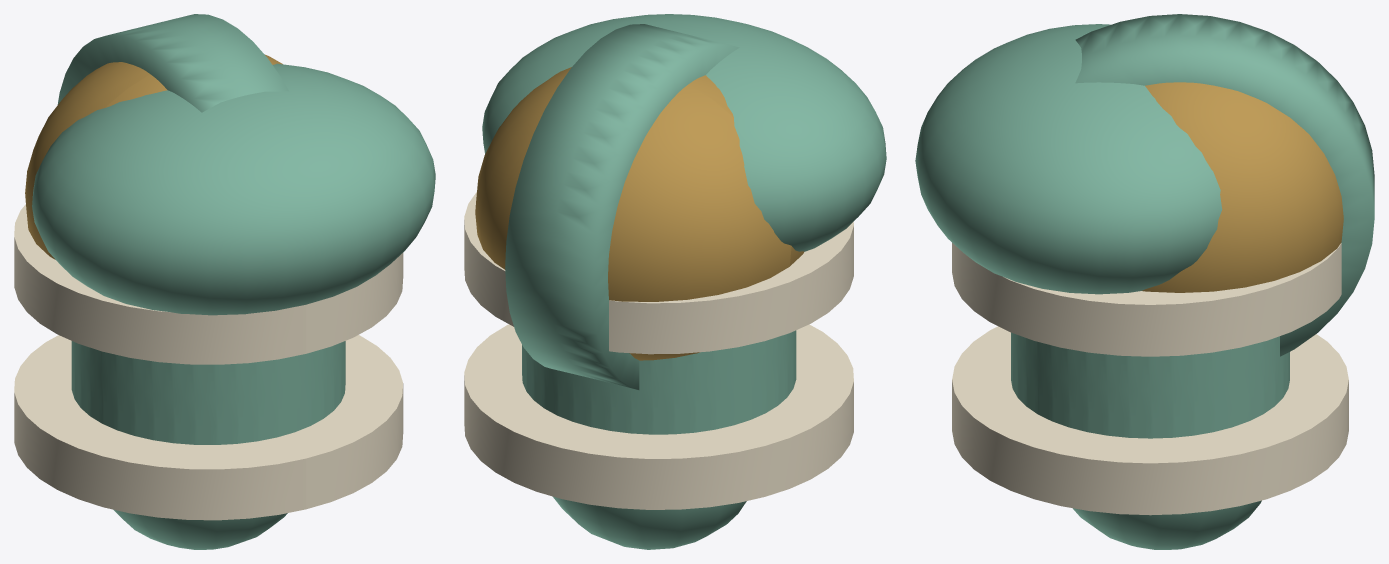
File: deadeye-arm-0.glb
3 renders of one model, left to right at view 1: azimuth 30°, elevation 25°; view 2: azimuth 150°, elevation 25°; view 3: azimuth 270°, elevation 25°, orthographic.
Parts seen in each view (by area): view 1: hand_clay, lower_hardware, lower_clay, upper_clay, upper_hardware; view 2: lower_hardware, upper_clay, upper_hardware, hand_clay, lower_clay; view 3: lower_hardware, hand_clay, upper_clay, upper_hardware, lower_clay.
Boxes of the visible parts, box(x1,y1,x2,y2) form: hand_clay: box(32, 63, 435, 315); lower_hardware: box(14, 204, 403, 520); lower_clay: box(71, 341, 345, 444); upper_clay: box(57, 14, 288, 549); upper_hardware: box(25, 54, 282, 259); lower_hardware: box(464, 192, 853, 509); upper_clay: box(505, 24, 746, 549); upper_hardware: box(475, 67, 803, 360); hand_clay: box(482, 14, 886, 251); lower_clay: box(522, 330, 796, 434); lower_hardware: box(952, 243, 1348, 515); hand_clay: box(915, 24, 1222, 294); upper_clay: box(1073, 14, 1374, 549); upper_hardware: box(1142, 82, 1343, 292); lower_clay: box(1011, 332, 1289, 438).
Size of the model in its own units: 0.5452 by 0.7095 by 0.5875.
